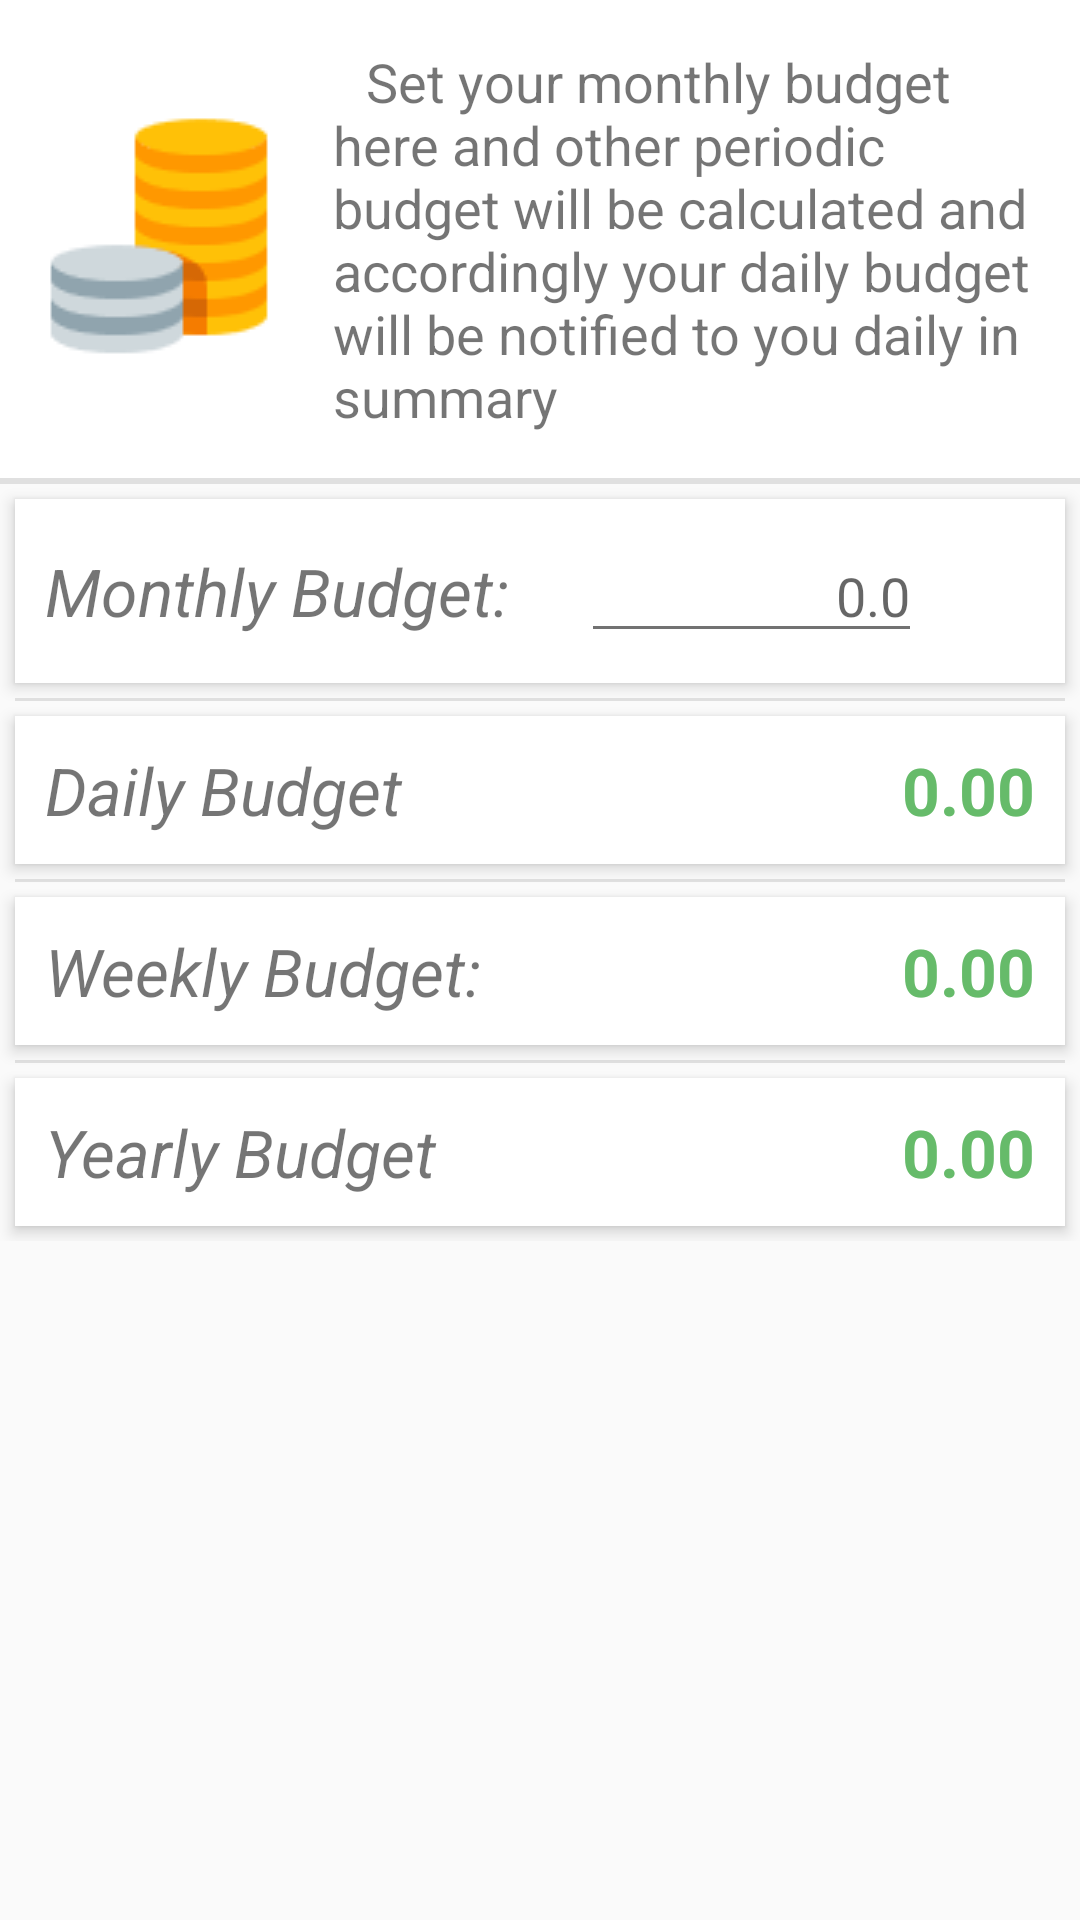

Named icons in this screenshot (1080×1920) and their bounding boxes, (x1, y1, x2, y2):
account budget: (50, 118, 268, 353)
